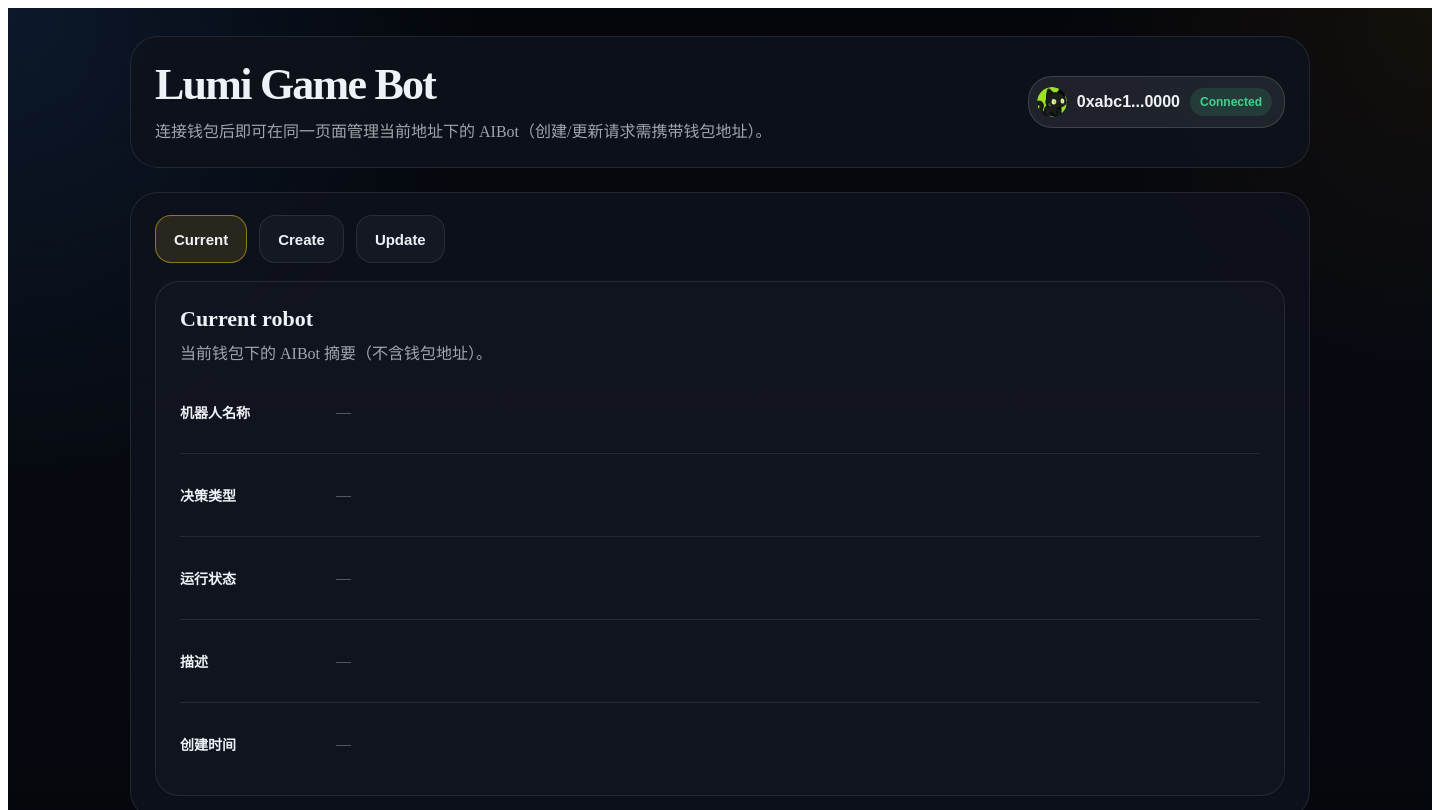
it: home console page › creates a bot from the create tab
Click the tab "Create". click: (302, 239)
box: [259,215,344,263]
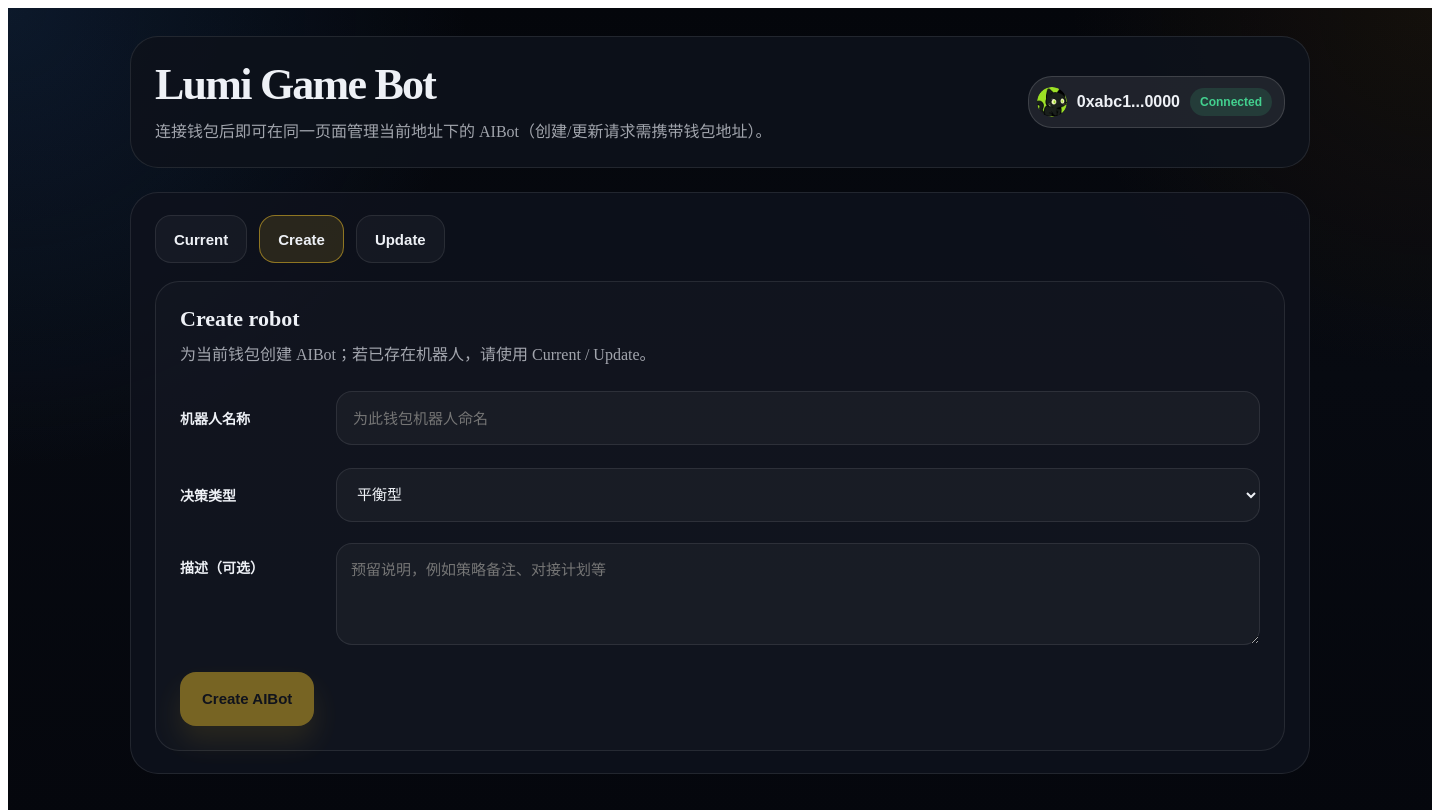
Type "Miner One" into the field named "create bot name". click: (798, 418)
box: [336,391,1260,445]
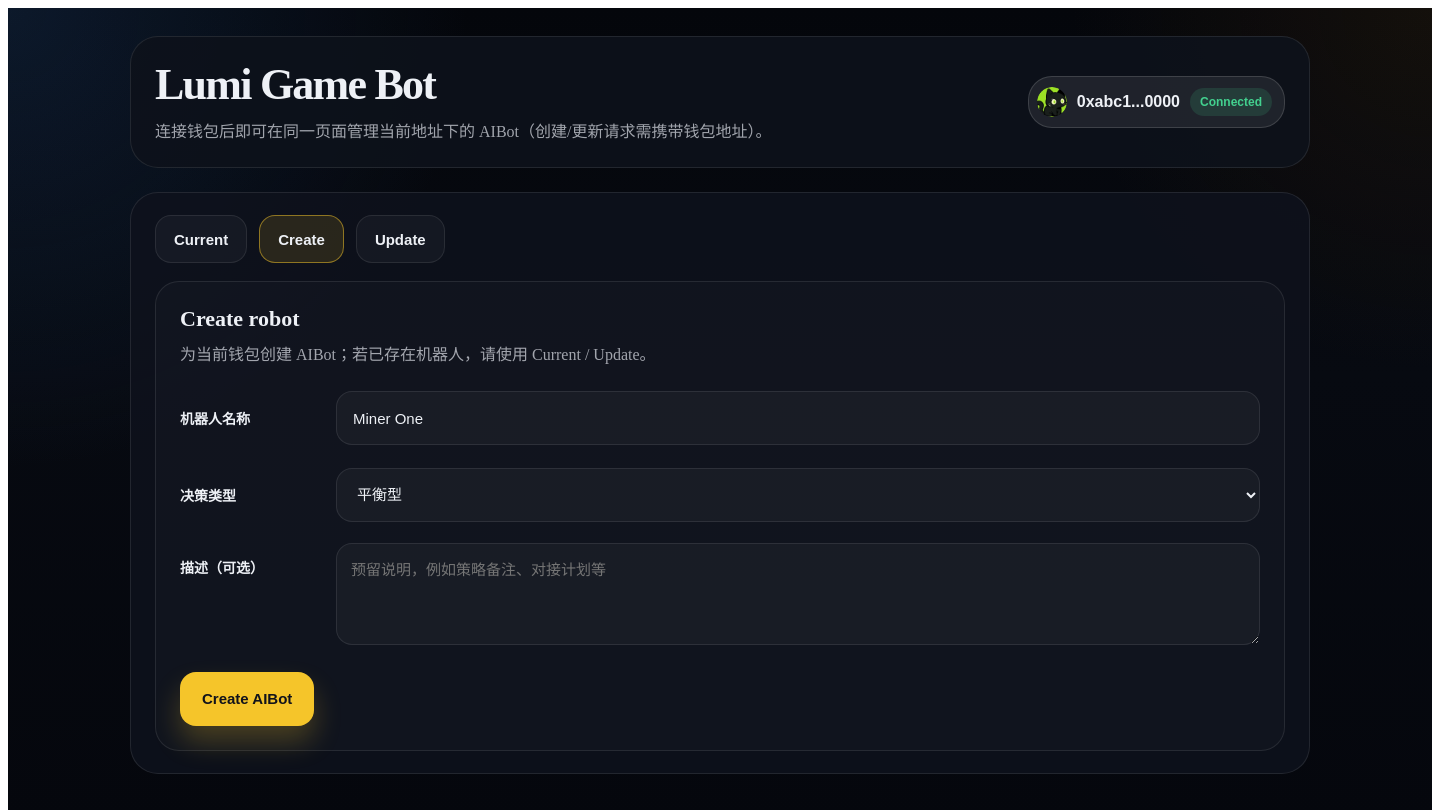
Click the button "Create AIBot". click: (247, 699)
box: [180,672,314,726]
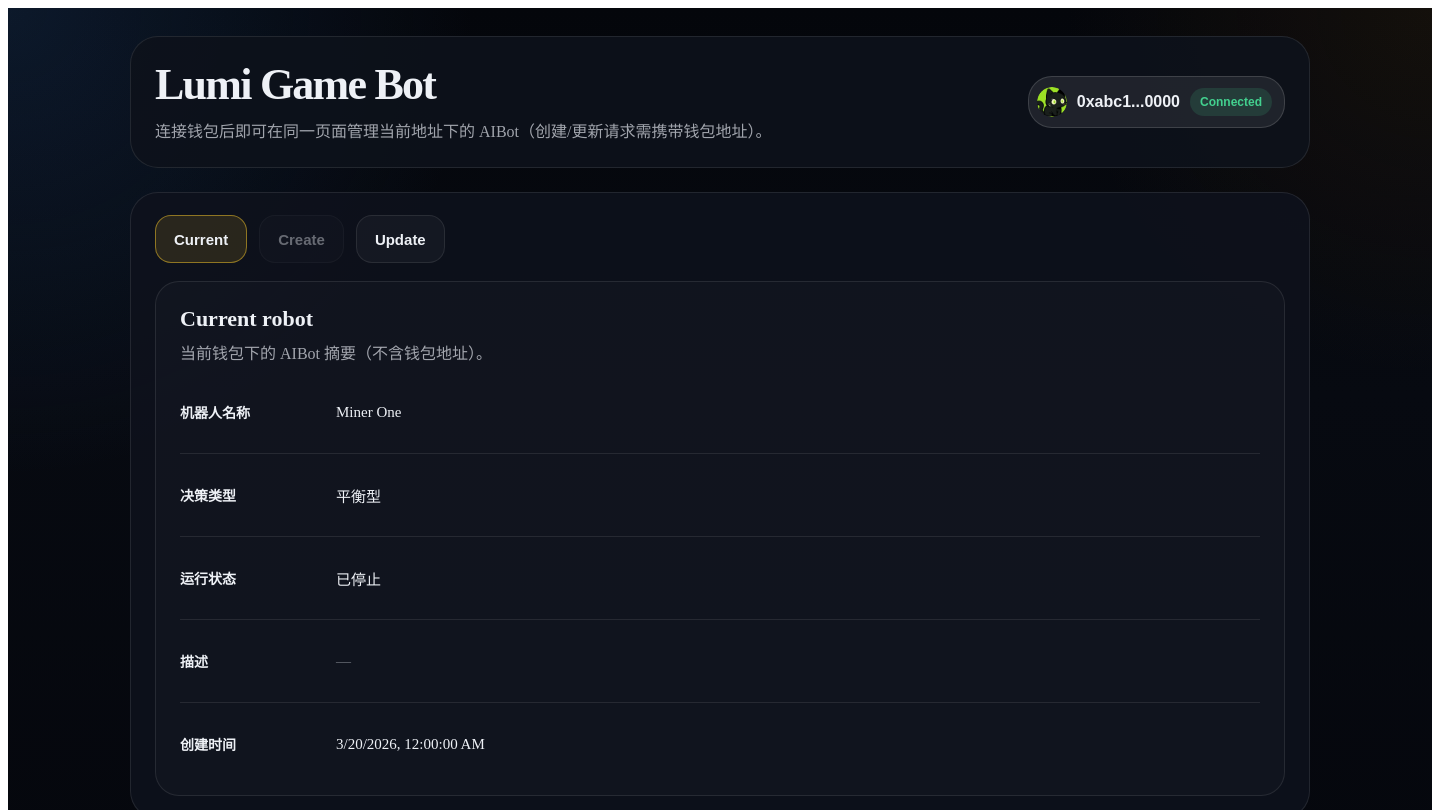
Check: the heading "Current robot" is shown, box [180,306,313,331]
